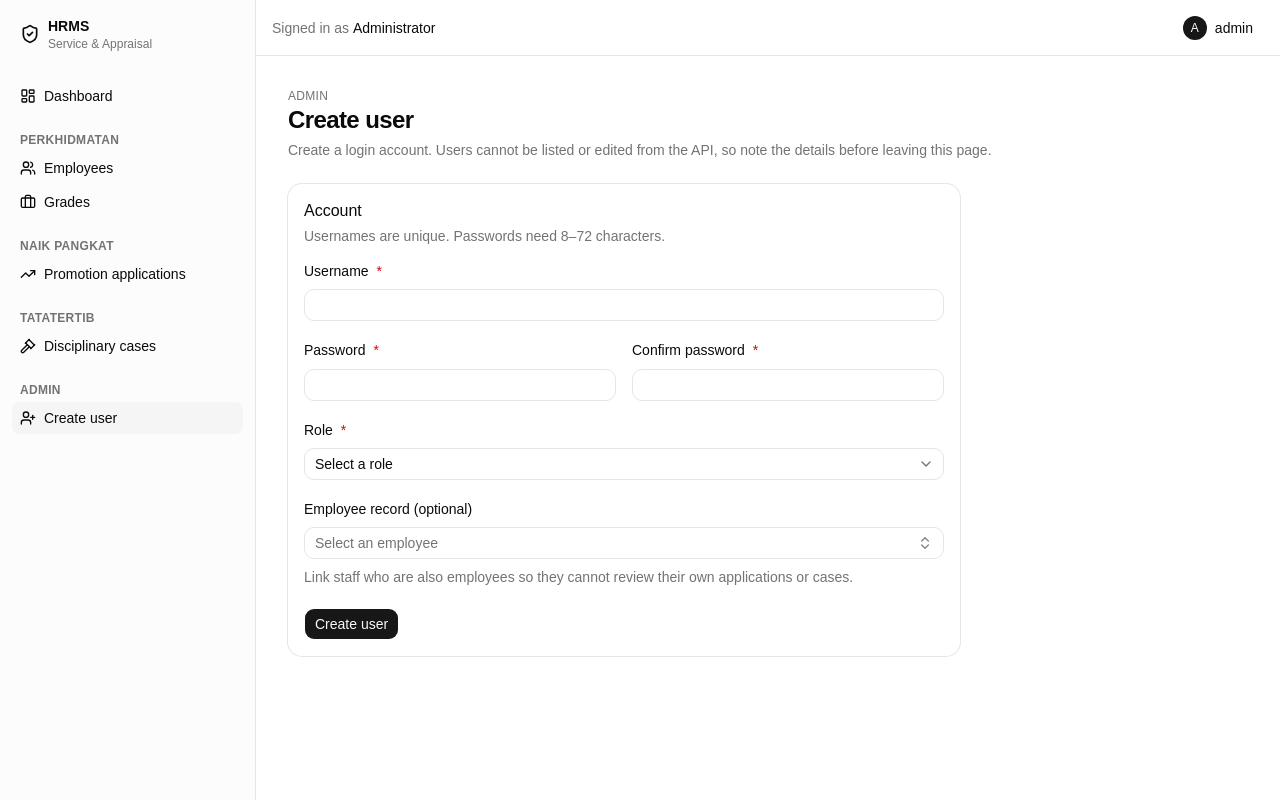
Test: create user › requires an employee record for EMPLOYEE accounts
The width and height of the screenshot is (1280, 800).
Type "new.approver" into the field labelled "Username *".
click(624, 305); type("new.approver")  # box [304,289,944,321]
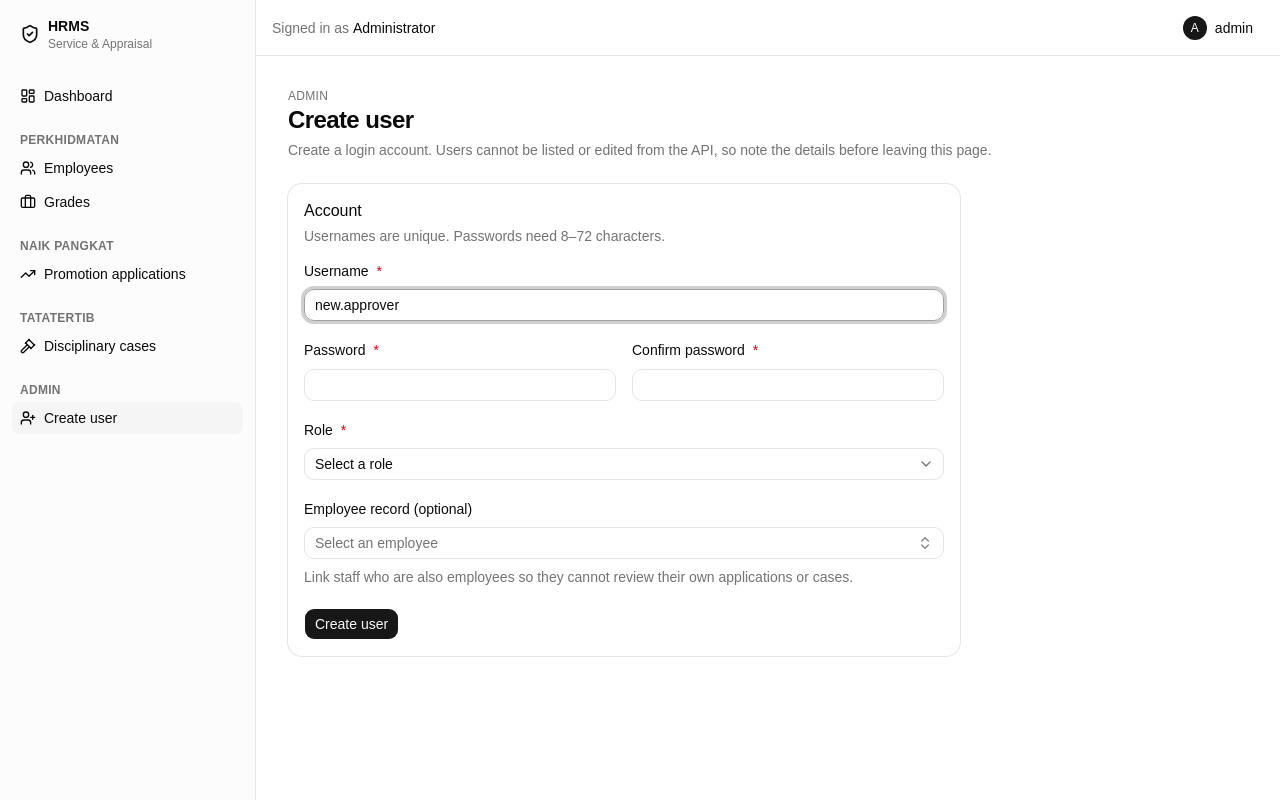
Type "Sup3r-secret" into the password field labelled "Password *".
click(460, 384); type("Sup3r-secret")  # box [304,368,616,400]
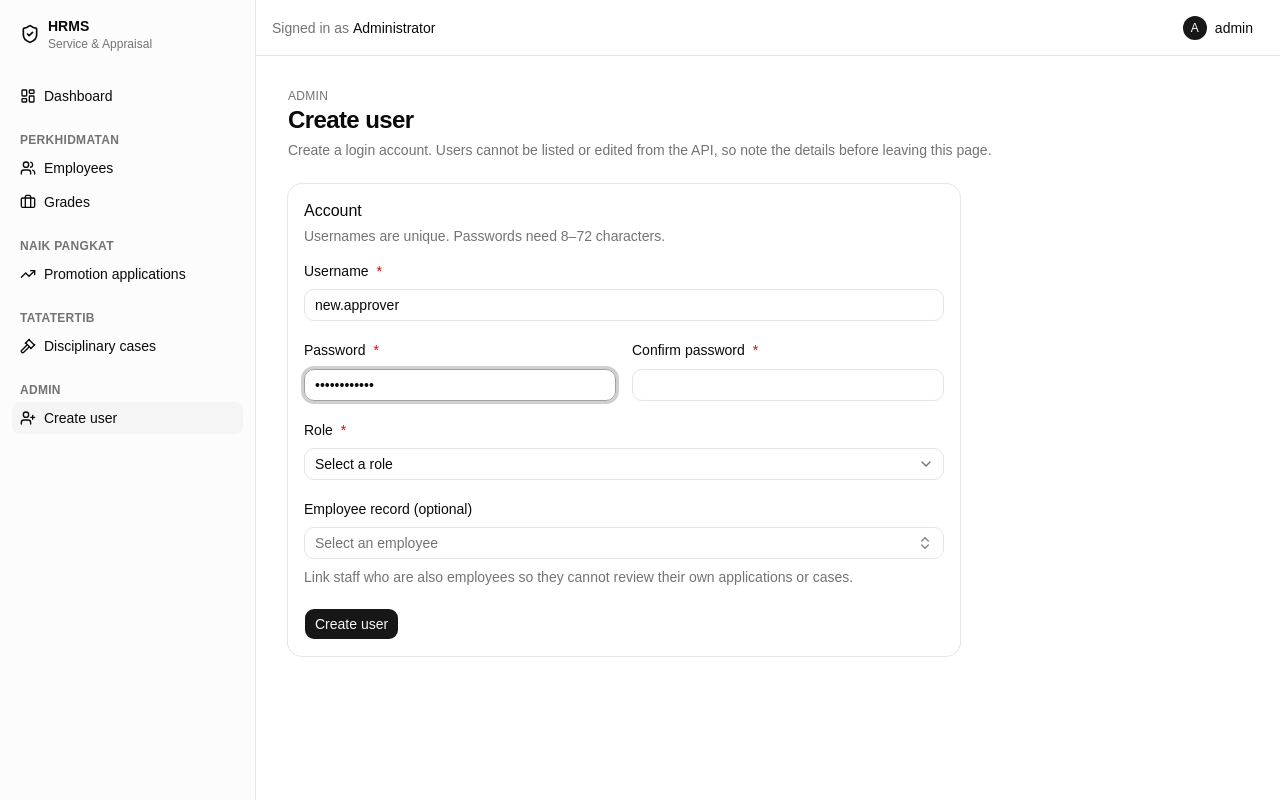
Type "Sup3r-secret" into the password field labelled "Confirm password *".
click(788, 384); type("Sup3r-secret")  # box [632,368,944,400]
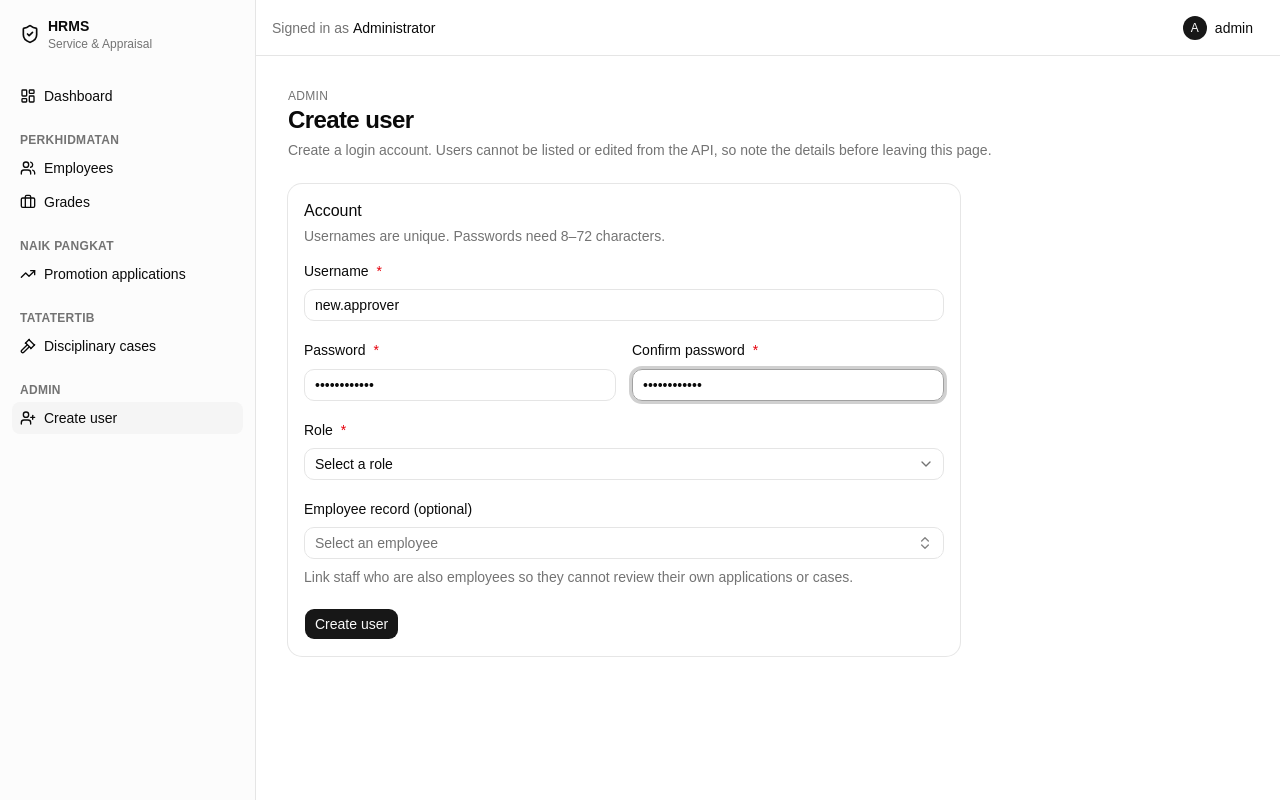
Select "Employee" in the dropdown labelled "Role *" at (624, 464), box [304,448,944,480]
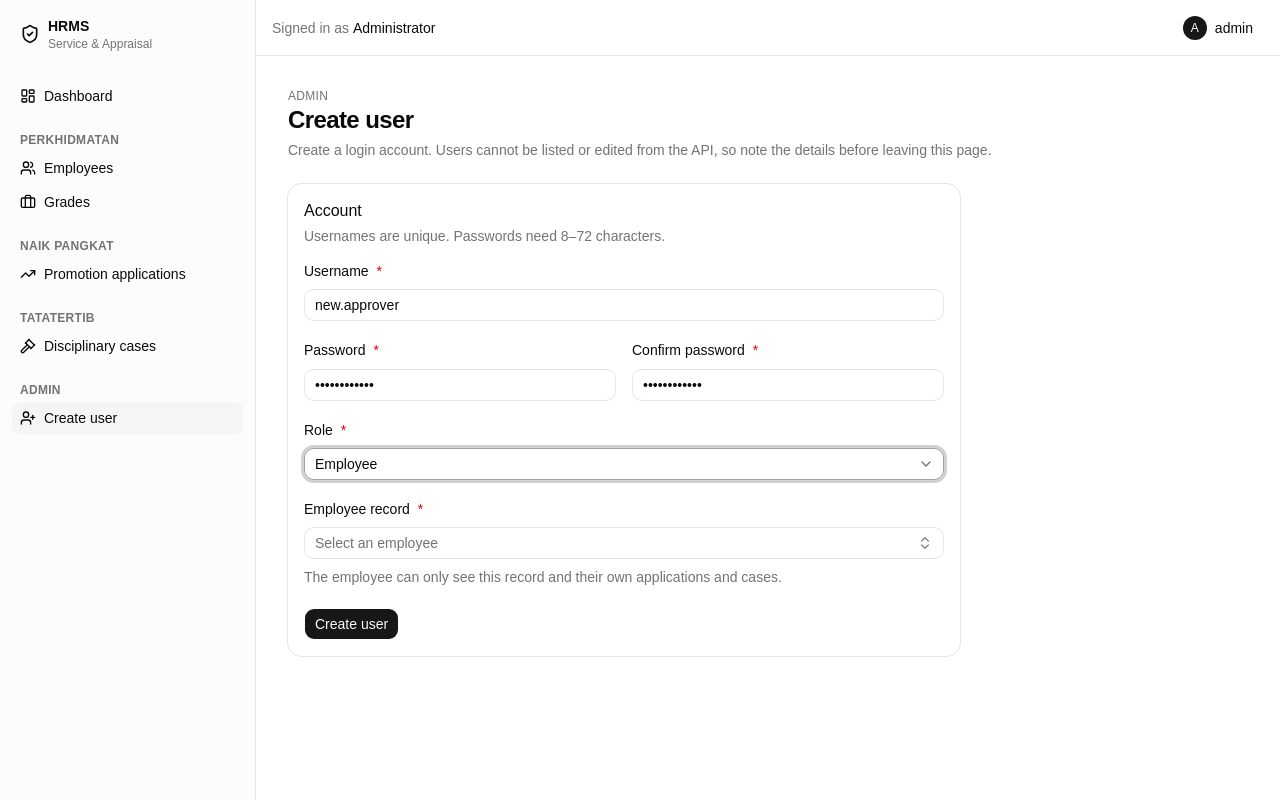
Click the button "Create user".
click(352, 624)  # box [304,608,399,640]
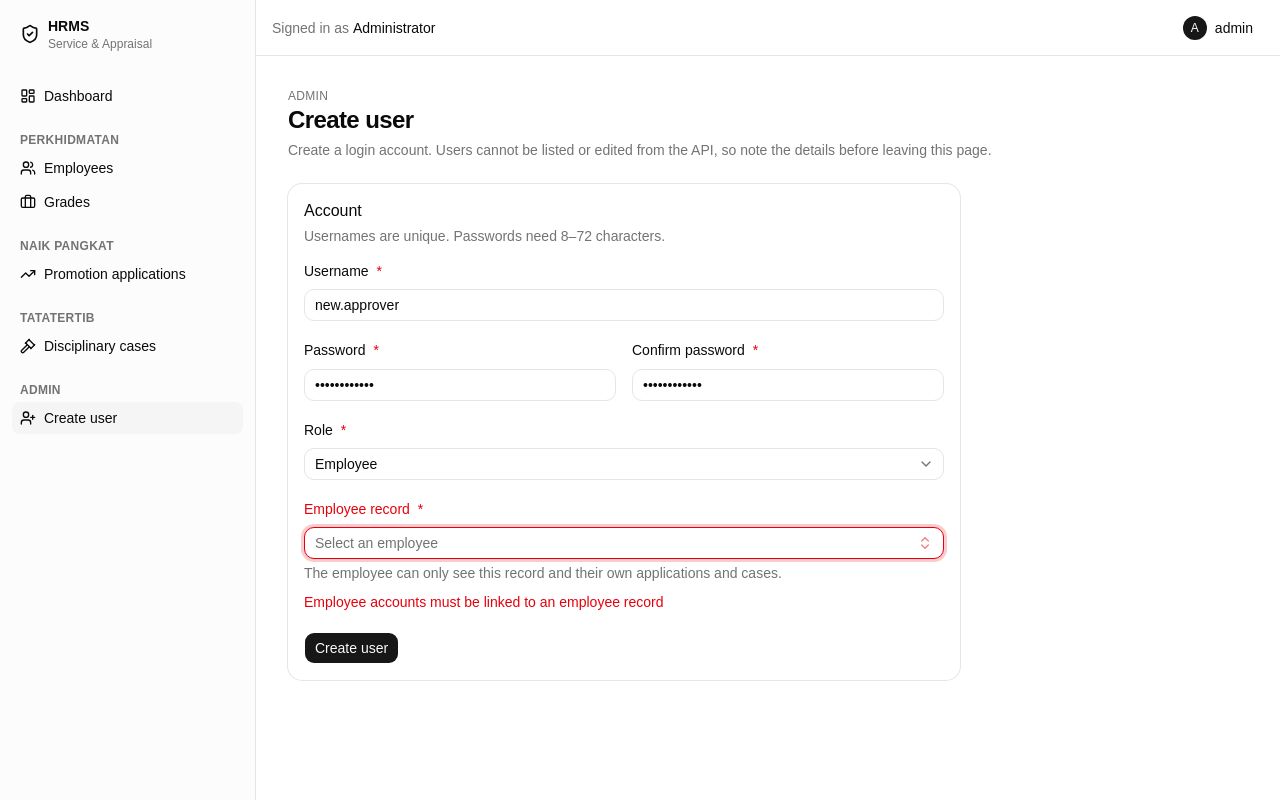
Expected: the text "Employee accounts must be linked to an employee record" is shown, [304,594,664,610]
